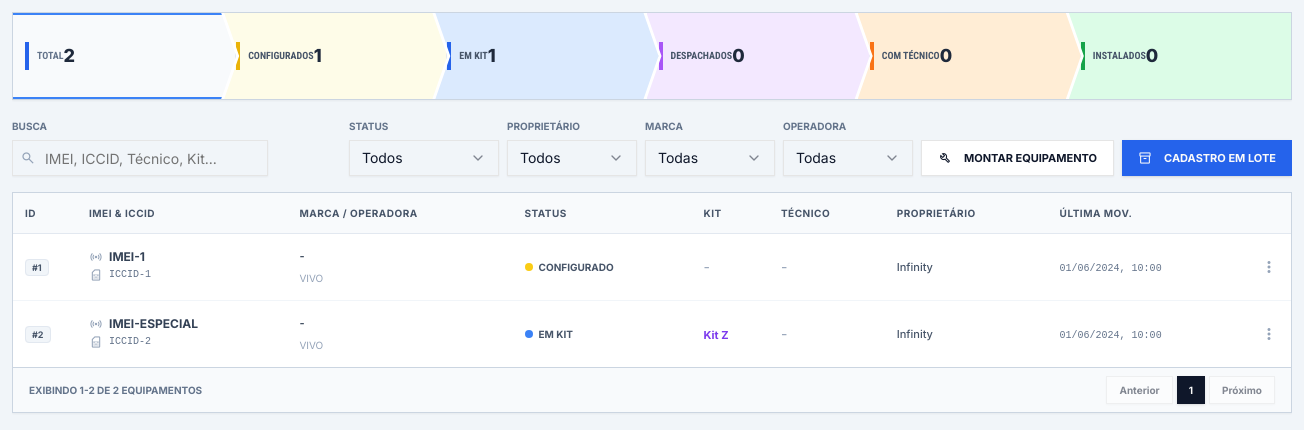
it: EquipamentosPage (integração) › carrega, exibe pipeline e filtra por busca
Check: the element with test id "equipamentos-pipeline-strip" is shown, box [12, 12, 1292, 100]
Check: the button with test id "equipamentos-pipeline-TODOS" shows "2", box [13, 13, 236, 99]
Type "ESPECIAL" into the field with test id "equipamentos-busca-input" at (140, 158), box [12, 140, 268, 176]
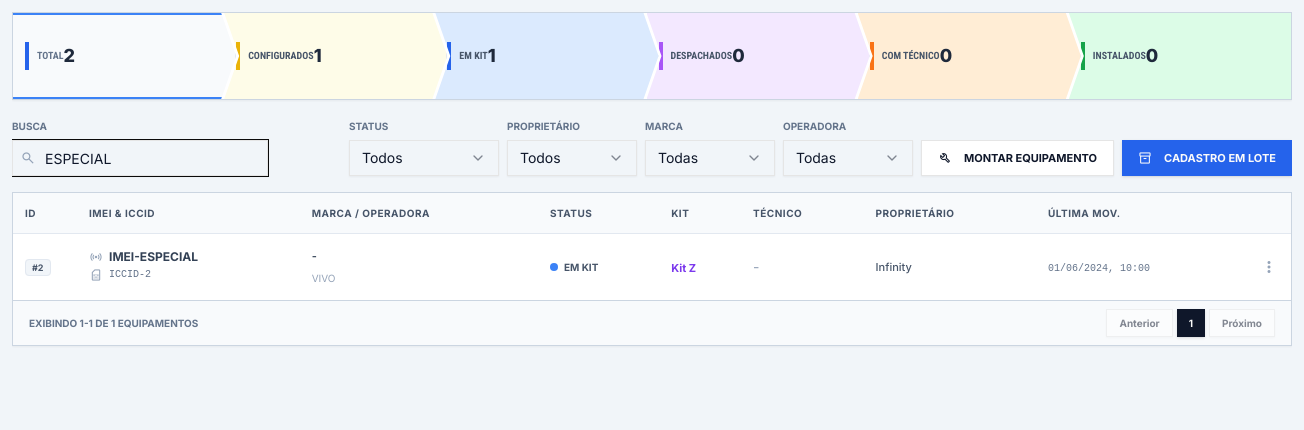
Check: the row with test id "equipamento-row-2" is shown, box [13, 234, 1291, 300]
Check: the row with test id "equipamento-row-1" is gone
